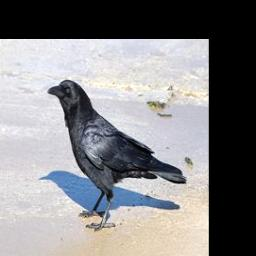Crow: (46, 79, 186, 231)
